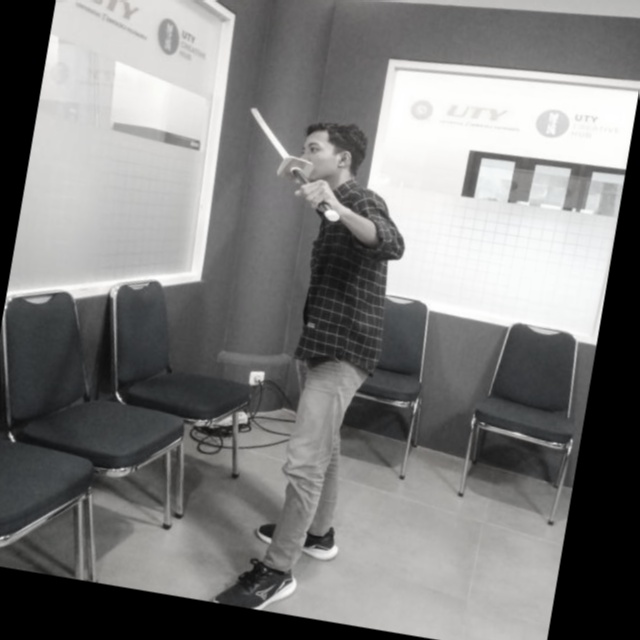Sharp-Object: (222, 95, 366, 238)
